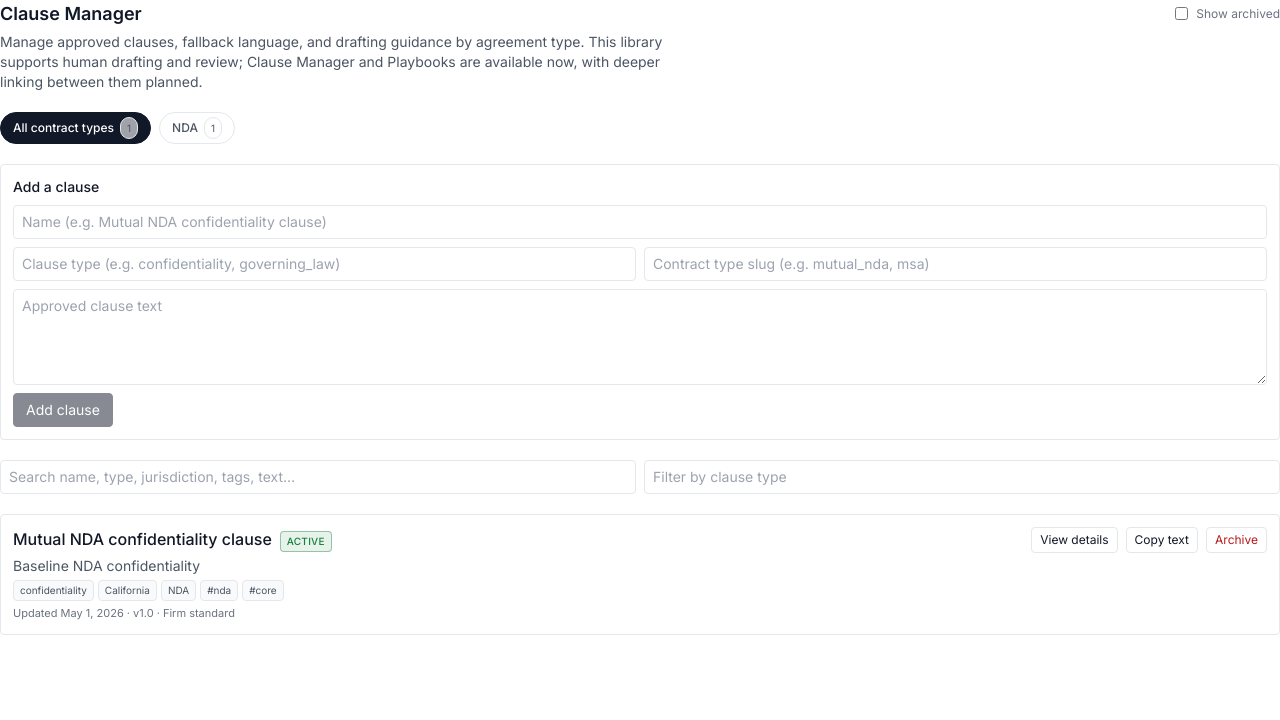
Scenario: ClauseLibraryPage › saves edits via PATCH and reflects the renamed clause in the list
Expected: the text "Mutual NDA confidentiality clause" is shown, [13,527,272,551]
Click the button with test id "clause-toggle": x=1074, y=540 [1031,527,1118,553]
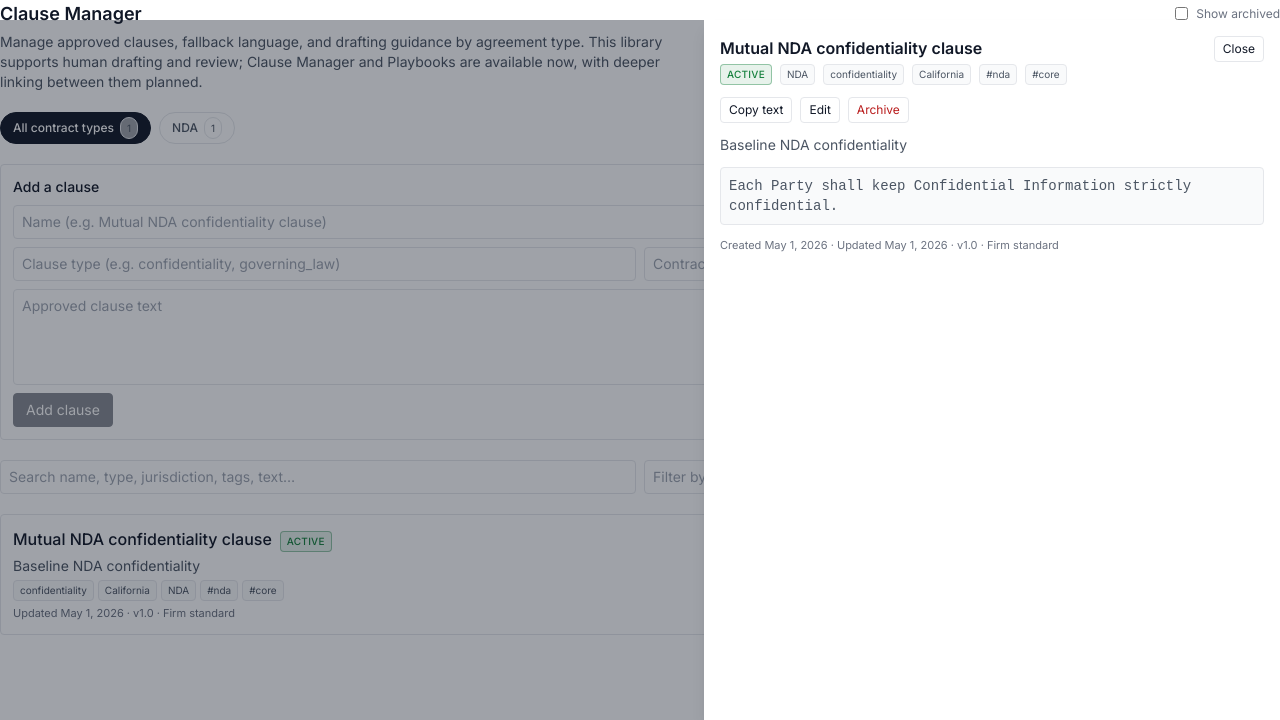
Click the button with test id "clause-detail-edit": x=820, y=110 [800,97,840,123]
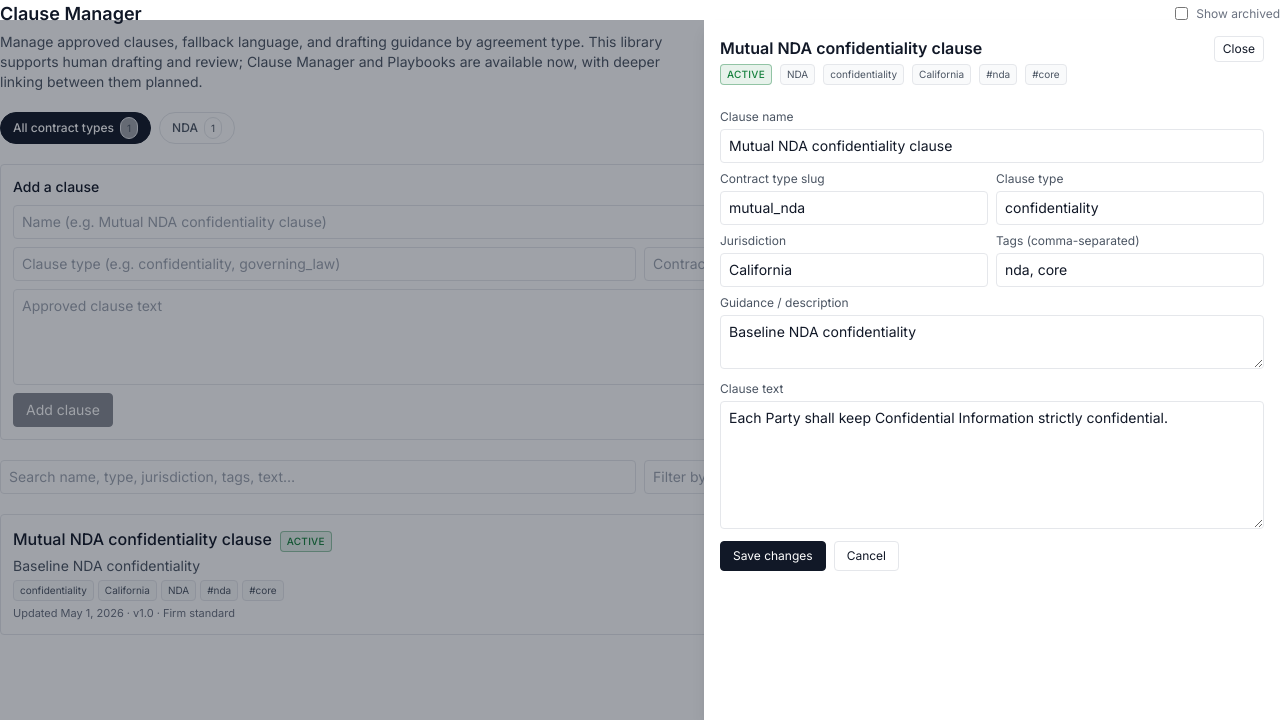
Replace the text in the field with test id "clause-edit-name" with "Renamed NDA clause": x=992, y=146 [720,129,1264,163]
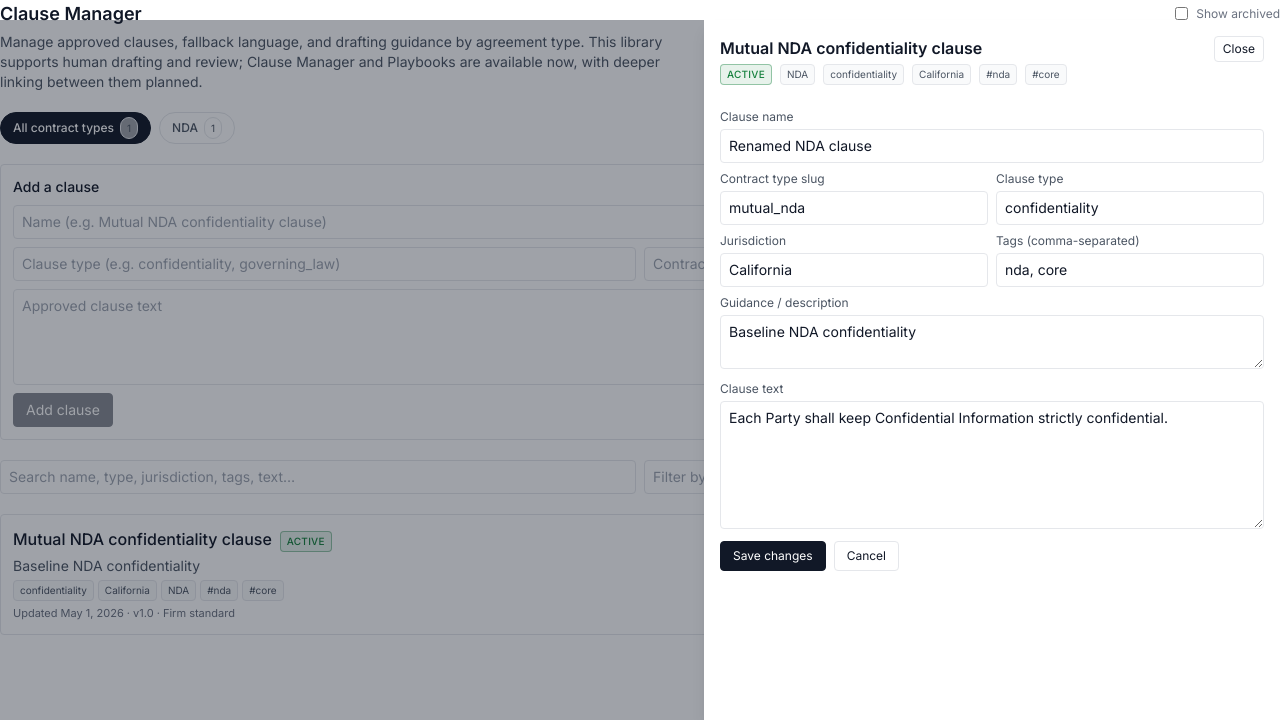
Replace the text in the text box with test id "clause-edit-description" with "Updated guidance for negotiators.": x=992, y=342 [720,315,1264,369]
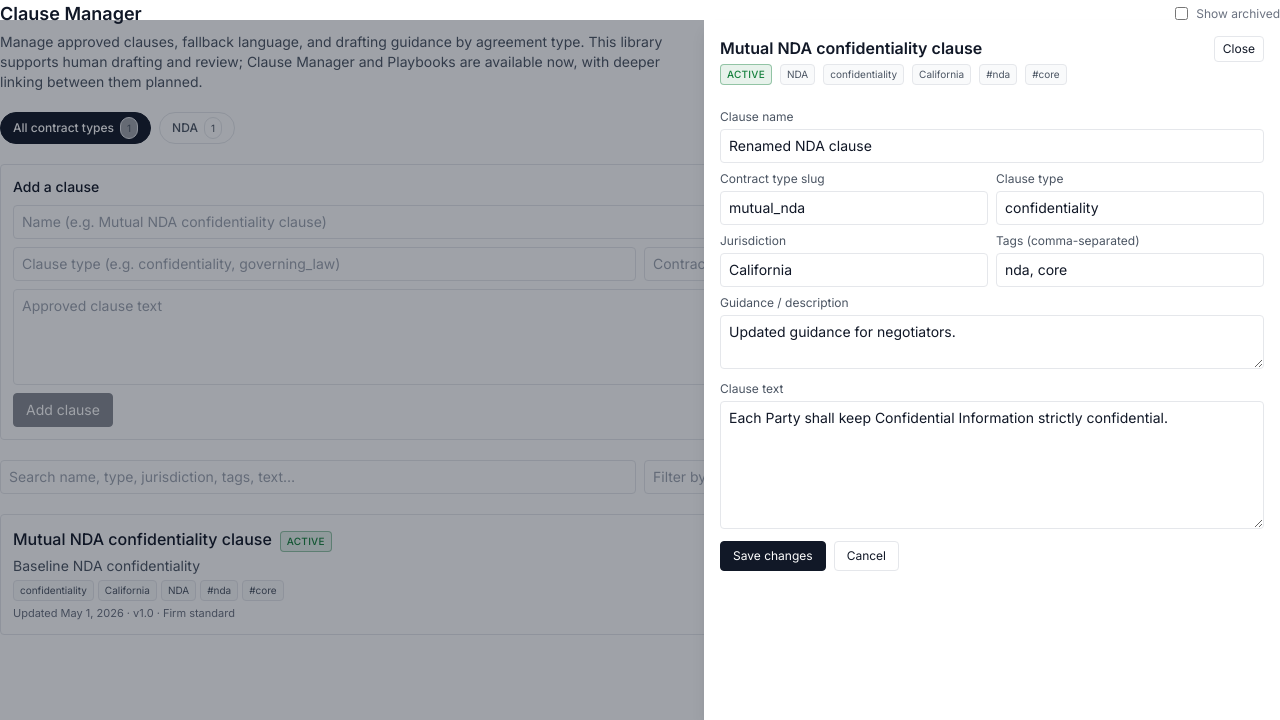
Click the button with test id "clause-edit-save": x=773, y=556 [720,541,826,571]
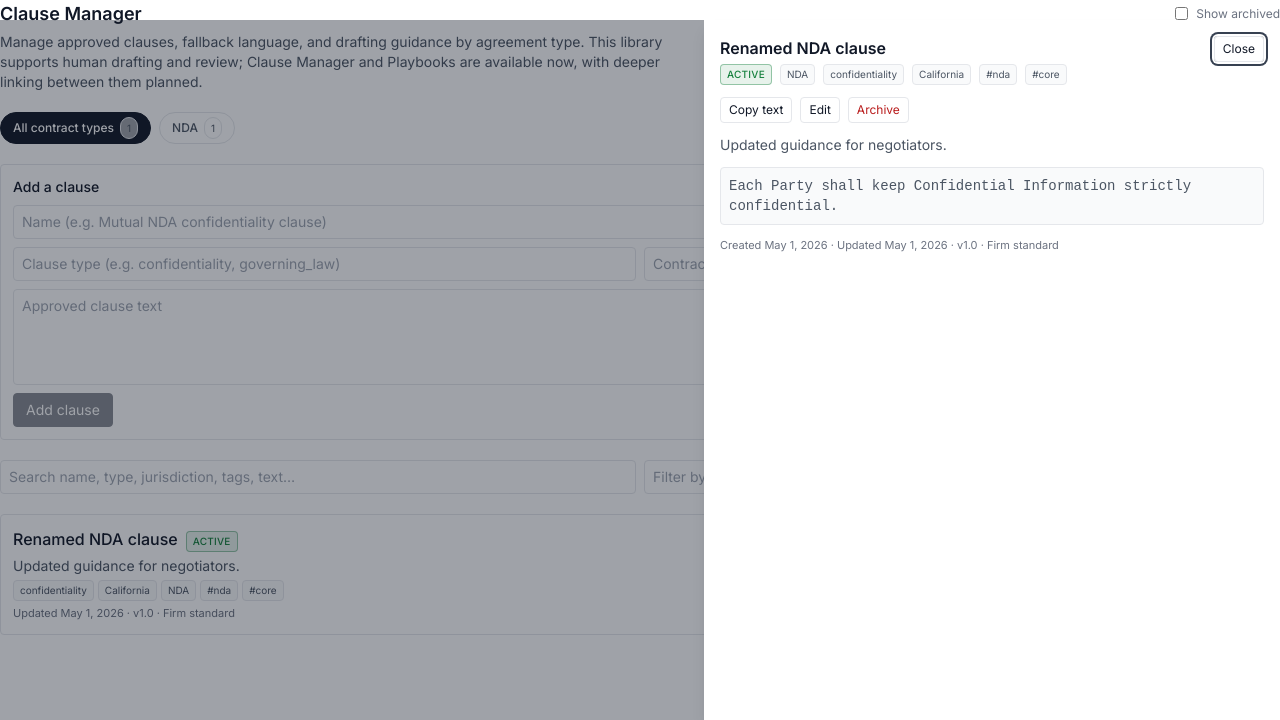
Expected: the form with test id "clause-edit-form" is gone
Expected: the text with test id "clause-detail-title" reads "Renamed NDA clause", [720,38,886,58]
